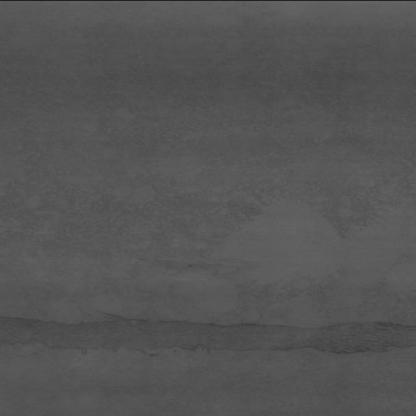water_spot: (8, 302, 410, 361)
